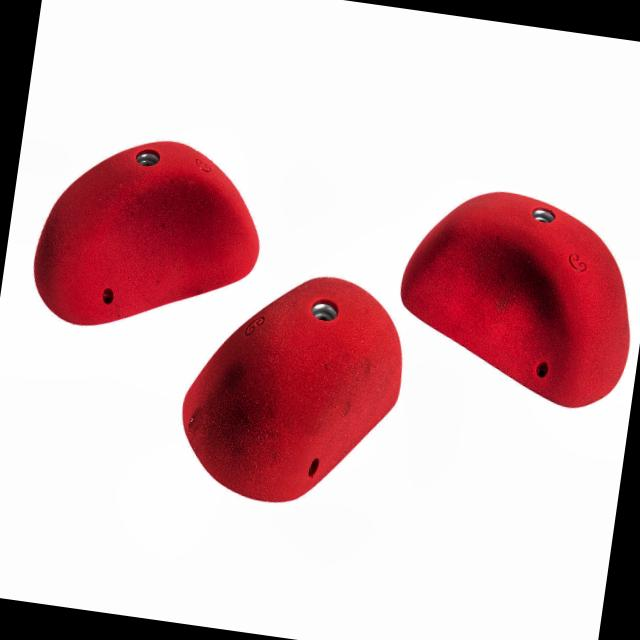Hold: (170, 256, 420, 518), (385, 179, 640, 416), (23, 122, 273, 352)
